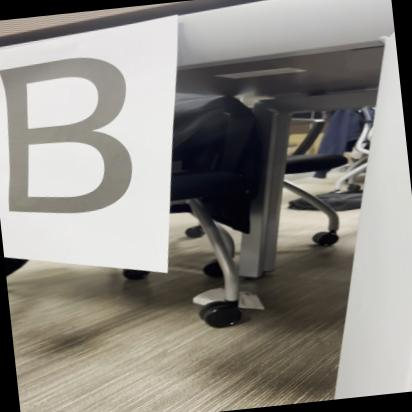seat: (0, 45, 180, 234)
